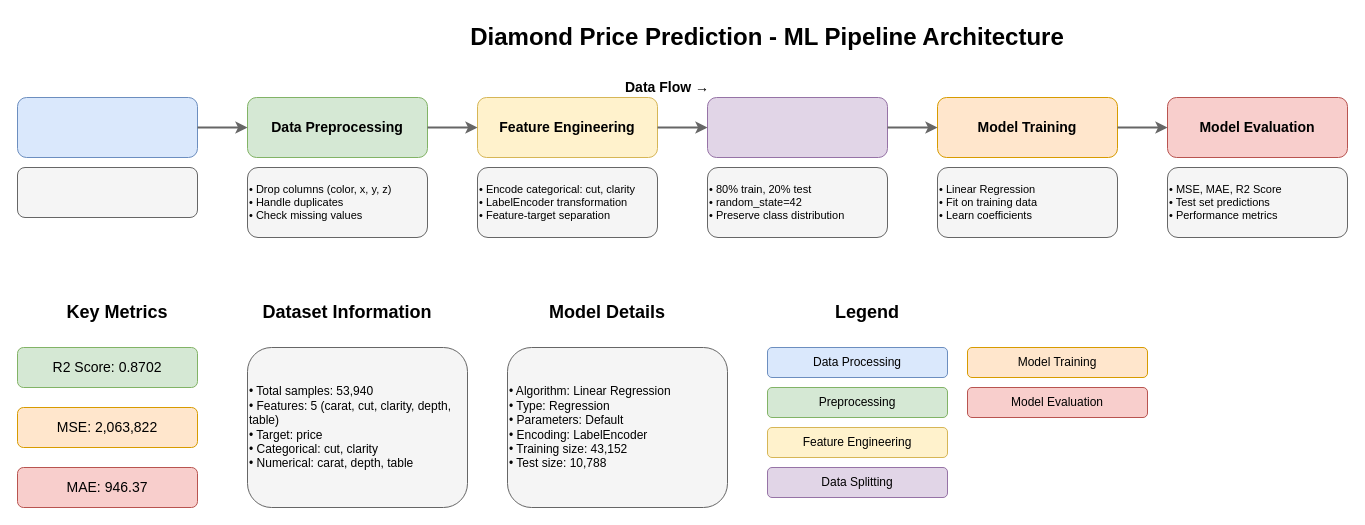
The diagram is 1365 pixels wide and 525 high, and some of its shapes have lost their labels. The shapes that lost their labels are listed below. From the top down, each one's centre as x and y in pixels, then its label:
At [107,127]: "Data Ingestion".
At [797,127]: "Train/Test Split".
At [107,192]: "• Load diamonds.csv • Initial data inspection".
